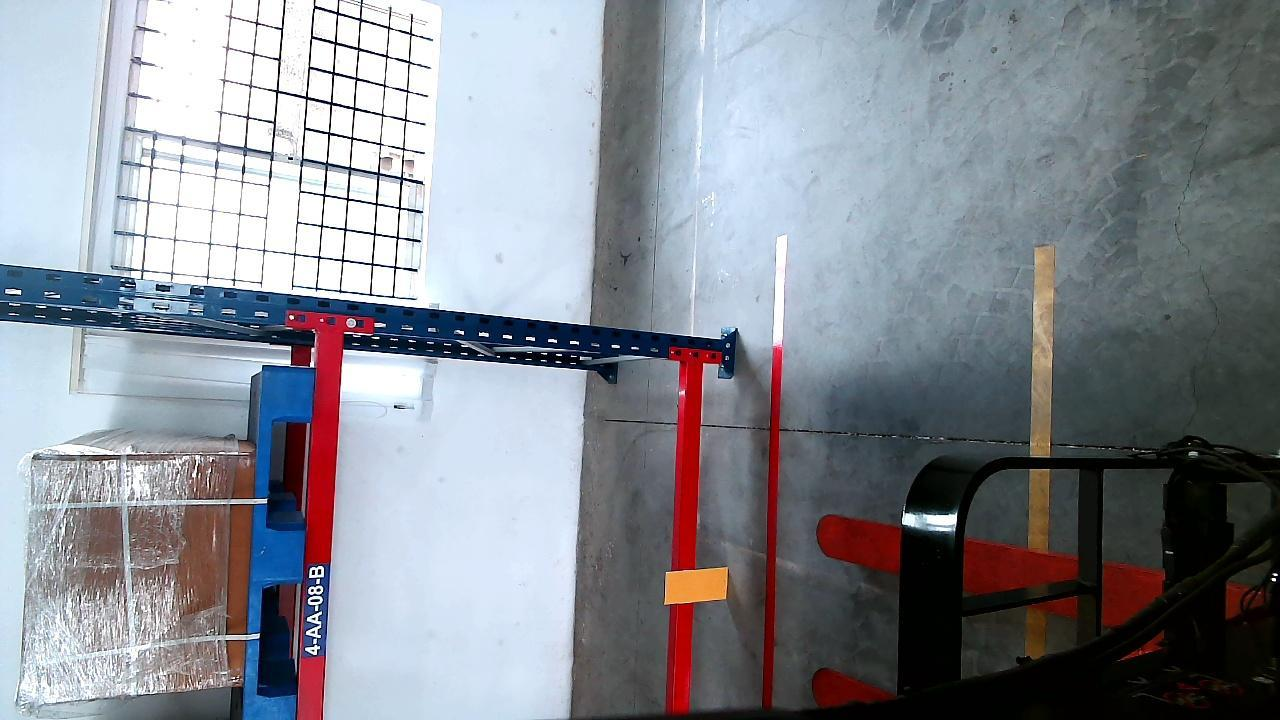red_line: (757, 234, 790, 712)
yellow_line: (1020, 242, 1054, 649)
